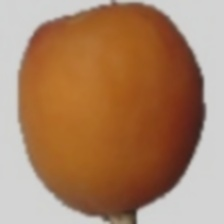apricot: (34, 28, 210, 208)
